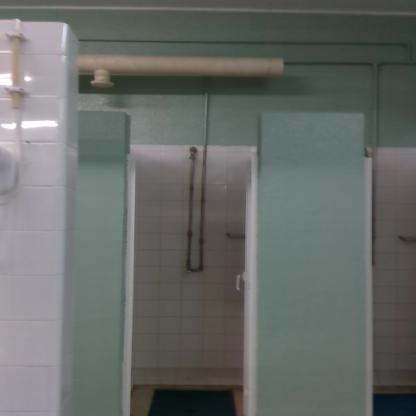open: (97, 116, 282, 410), (352, 129, 416, 412)
